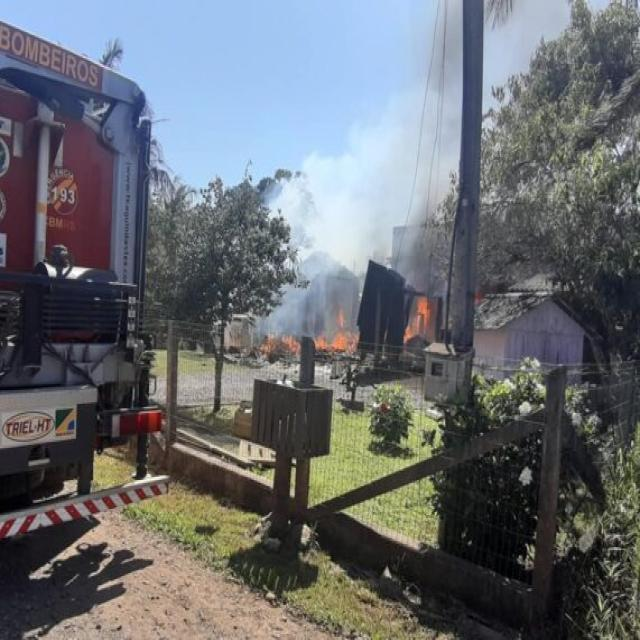Fire: (386, 256, 448, 354), (256, 310, 354, 356)
Smoke: (405, 21, 508, 341), (262, 217, 359, 337)
